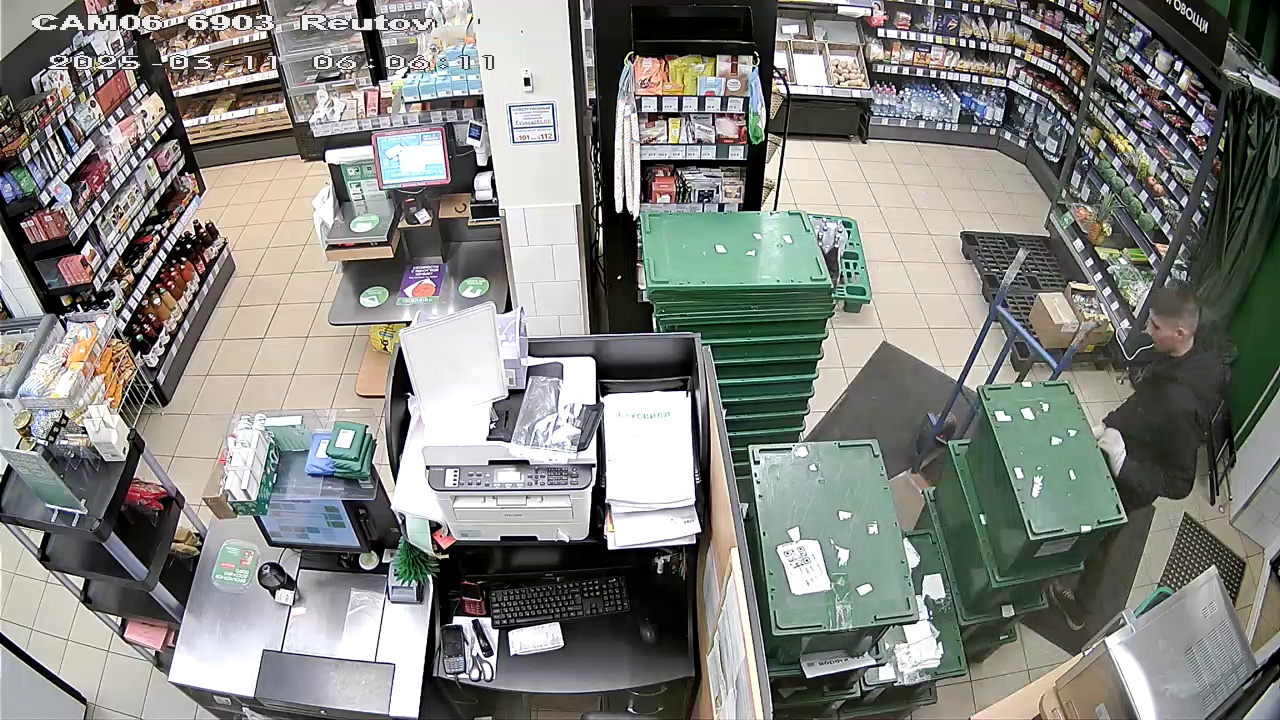Human: (1055, 267, 1210, 638)
pallet: (957, 226, 1122, 368)
